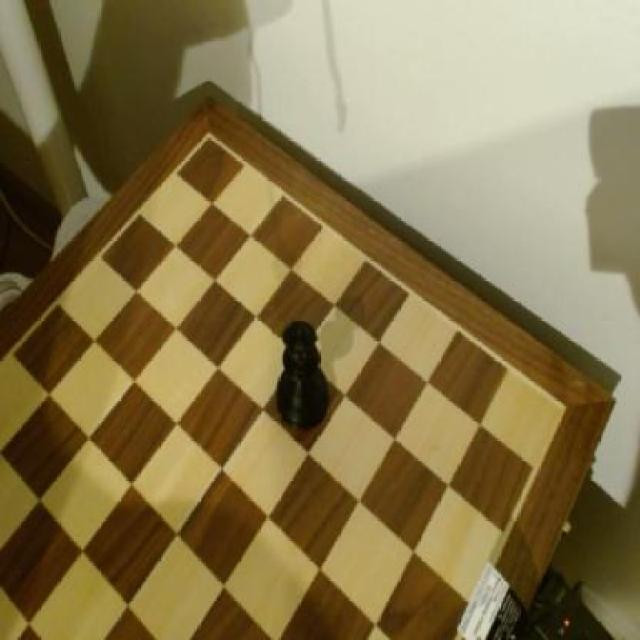black-pawn: (274, 316, 334, 434)
